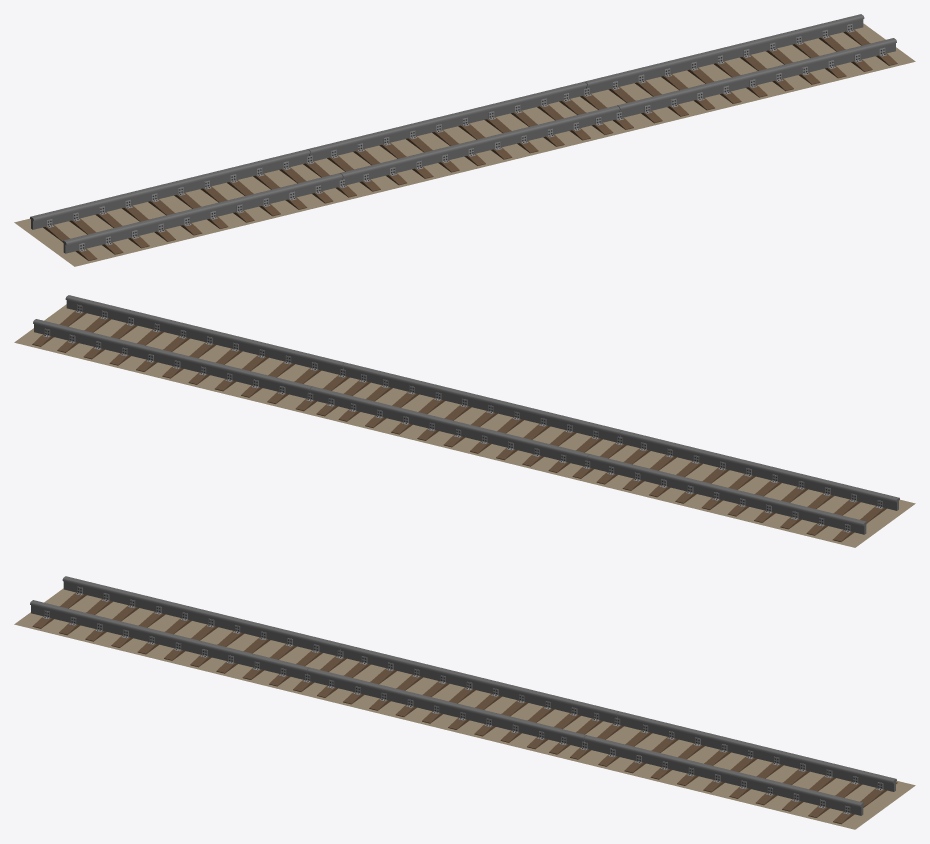
Rendered from rail_track_lowpoly.glb.
3 renders of one model, top to bottom at view 1: azimuth 30°, elevation 25°; view 2: azimuth 150°, elevation 25°; view 3: azimuth 330°, elevation 25°, orthographic.
Parts seen in each view (by area): view 1: Rail Track_3, Ground_4, Sleeper_2, Pad_1, Screw_0; view 2: Rail Track_3, Ground_4, Sleeper_2, Pad_1, Screw_0; view 3: Rail Track_3, Ground_4, Sleeper_2, Pad_1, Screw_0.
Boxes of the visible parts, bbox=[...] form: Rail Track_3: bbox=[30, 14, 896, 253]; Ground_4: bbox=[14, 23, 915, 266]; Sleeper_2: bbox=[43, 29, 897, 260]; Pad_1: bbox=[47, 24, 886, 251]; Screw_0: bbox=[47, 25, 885, 250]; Rail Track_3: bbox=[33, 295, 899, 534]; Ground_4: bbox=[14, 304, 915, 547]; Sleeper_2: bbox=[32, 310, 886, 541]; Pad_1: bbox=[43, 304, 882, 532]; Screw_0: bbox=[44, 306, 882, 531]; Rail Track_3: bbox=[30, 576, 896, 815]; Ground_4: bbox=[14, 588, 915, 829]; Sleeper_2: bbox=[32, 592, 897, 824]; Pad_1: bbox=[43, 586, 883, 814]; Screw_0: bbox=[44, 588, 881, 813].
Size of the model in its own units: 4 by 0.0672 by 0.5005.
